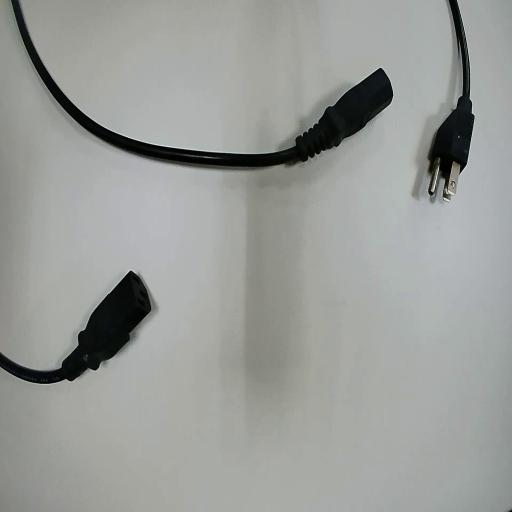wire: (12, 0, 391, 167), (0, 272, 150, 382), (429, 0, 472, 186)
